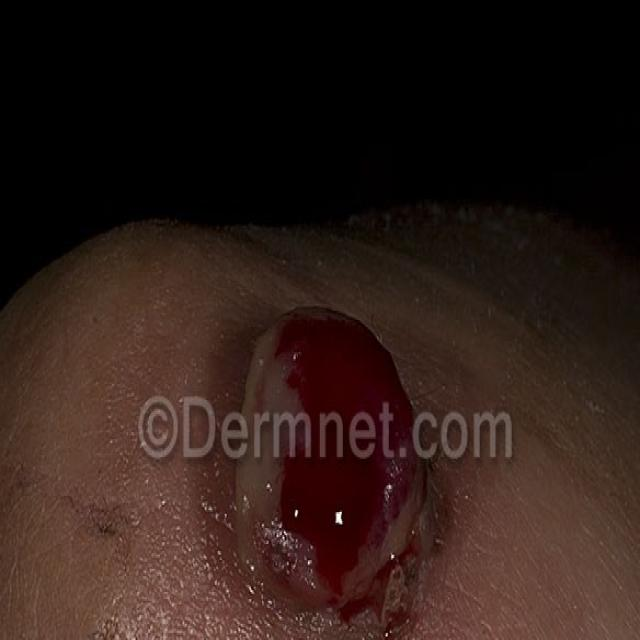Vascular Tumors: (218, 300, 457, 631)
